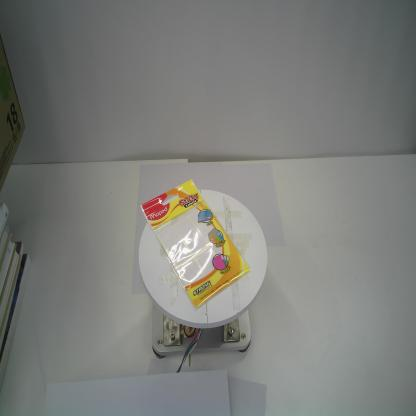Stationery: (139, 177, 251, 315)
